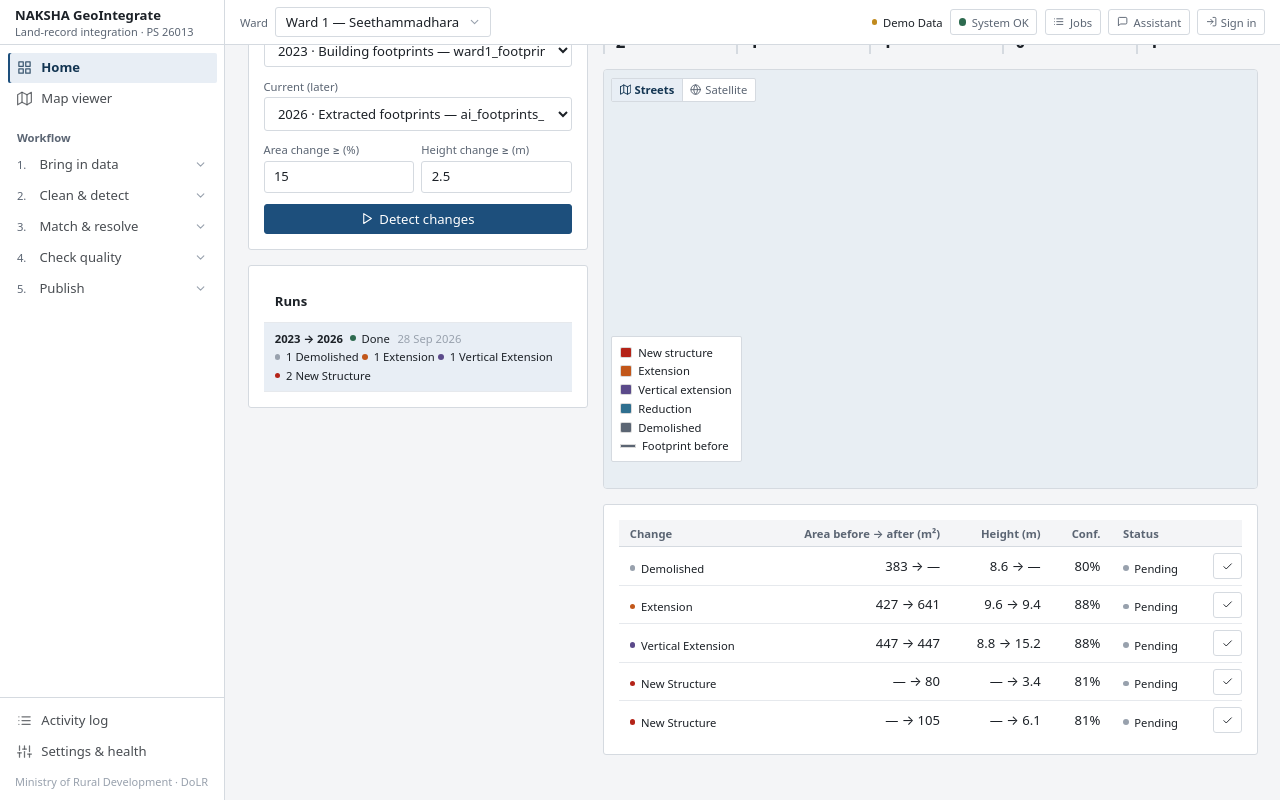
Test: ChangeDetectionPage › shows the seeded epoch comparison and confirms a change
(page scrolled)
Expected: the text "2023 → 2026" is shown, x1=275 y1=331 x2=343 y2=346
Click the button named "Confirm change" in the row of "383".
click(1227, 566)  # box x1=1213 y1=553 x2=1242 y2=579
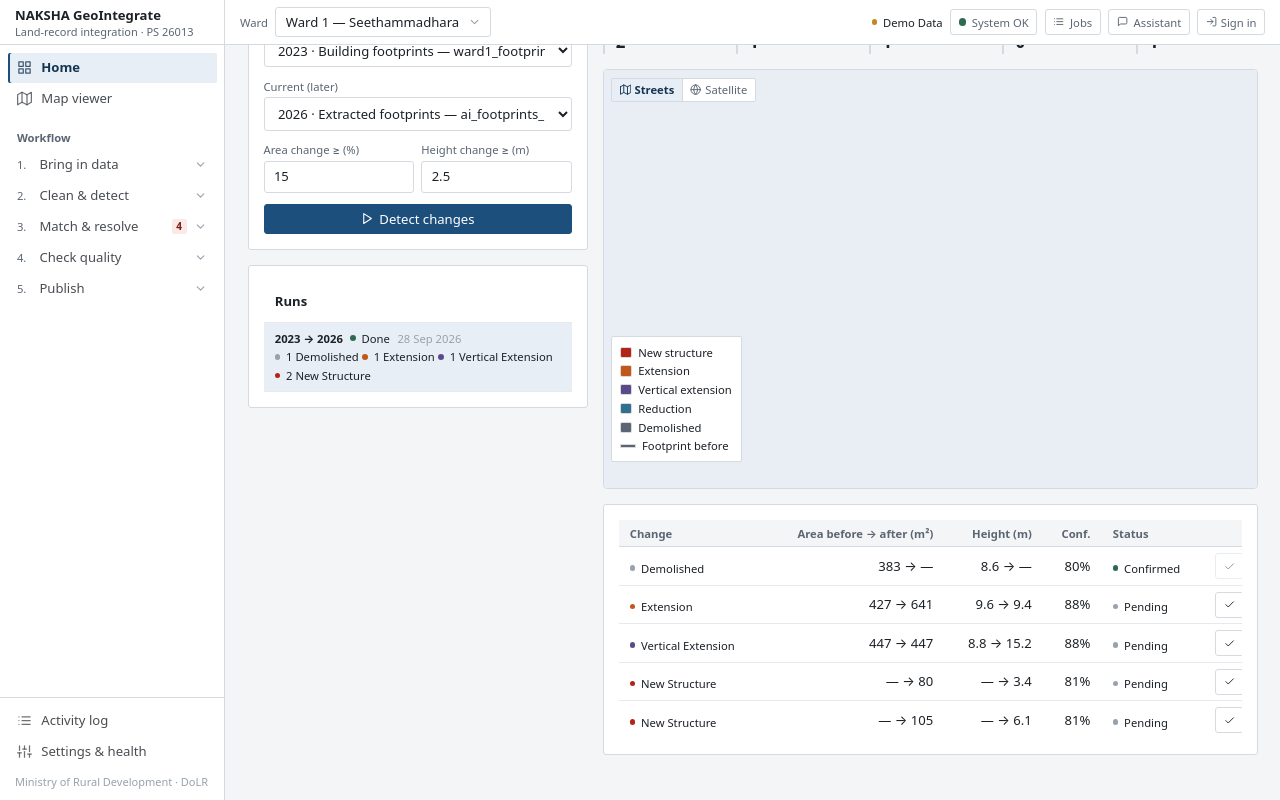
Expected: the text "confirmed" is shown, x1=1113 y1=560 x2=1180 y2=576
